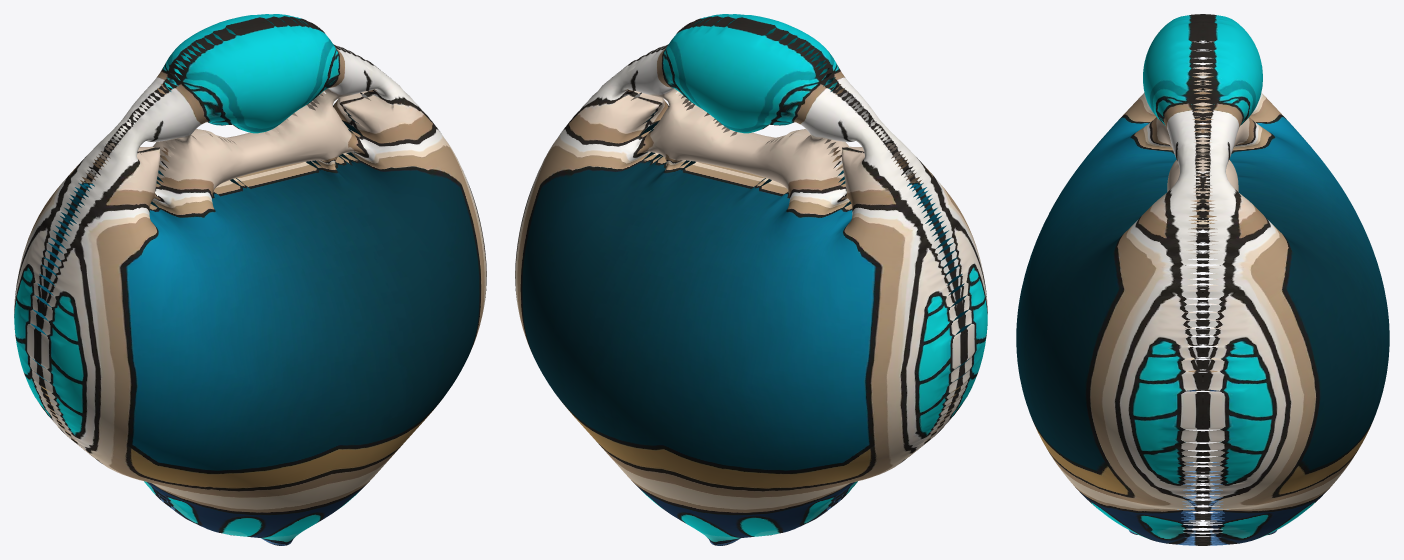
File: capsule_marquee.glb
3 views of the same model, side by side, from view 1: azimuth 30°, elevation 25°; view 2: azimuth 150°, elevation 25°; view 3: azimuth 270°, elevation 25° (orthographic).
Parts seen in each view (by area): view 1: capsule_marquee; view 2: capsule_marquee; view 3: capsule_marquee.
Boxes of the visible parts, bbox=[...] form: capsule_marquee: bbox=[14, 14, 486, 545]; capsule_marquee: bbox=[515, 14, 987, 545]; capsule_marquee: bbox=[1016, 14, 1389, 545].
Size of the model in its own units: 0.9878 by 1.09 by 0.7413.
1 material, 1 textured.
